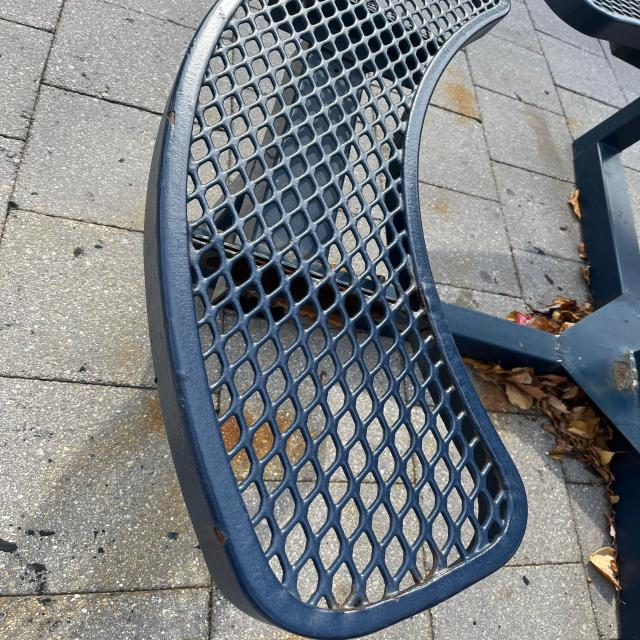Filiform Corrosion: (231, 259, 252, 288), (241, 286, 260, 315), (271, 293, 290, 321), (262, 268, 281, 296), (291, 278, 310, 304), (318, 285, 336, 311), (201, 250, 221, 273), (211, 281, 230, 305), (300, 301, 318, 323), (346, 294, 361, 319), (330, 311, 345, 330), (372, 302, 383, 320), (226, 246, 240, 258), (167, 109, 176, 125), (256, 259, 271, 268), (284, 267, 296, 277), (201, 241, 210, 248), (339, 286, 349, 291)
